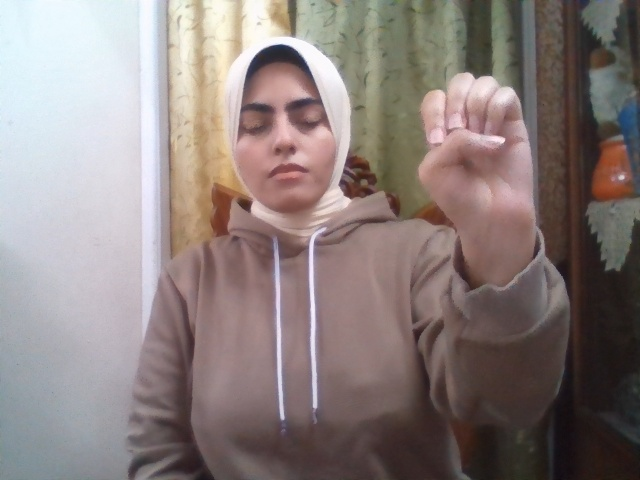E: (418, 73, 535, 238)
